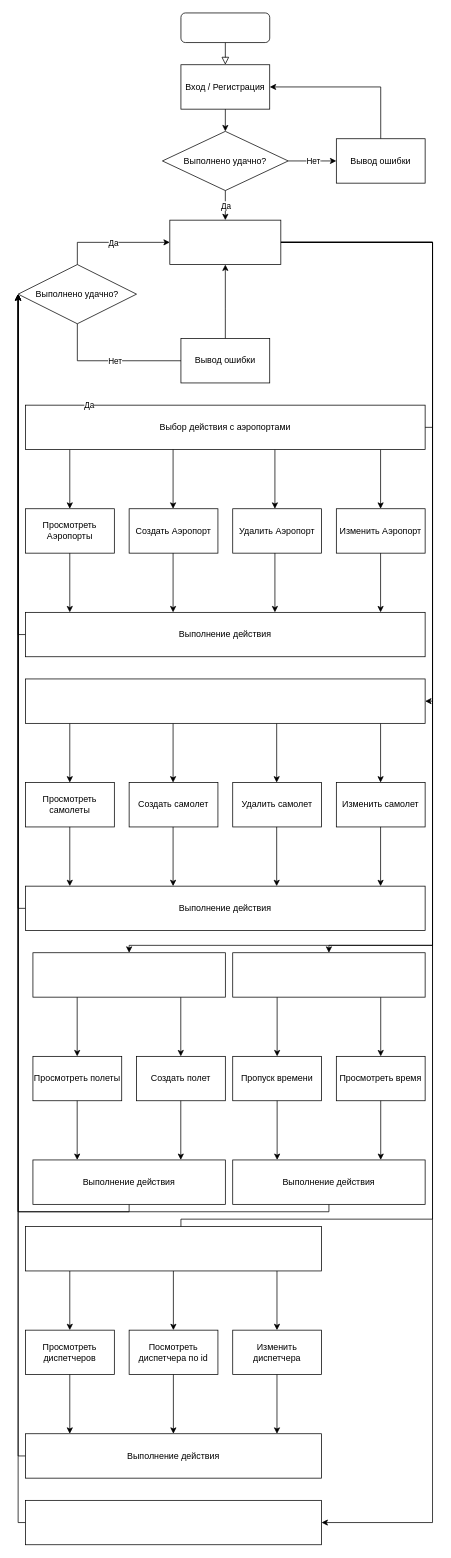
Some shapes in this 451 by 1558 pixel diagram are drawn without their labels. Here are the shapes that lost their labels. From the top down, the centre of each, then its label:
At point 225,27: "Запуск клиента".
At point 225,242: "Выбор группы действий".
At point 225,700: "Выбор действия с самолетами".
At point 128,974: "Выбор действия с полетами".
At point 328,974: "Выбор действия со временем".
At point 173,1248: "Выбор действия с диспетчерами".
At point 173,1522: "Выход".
